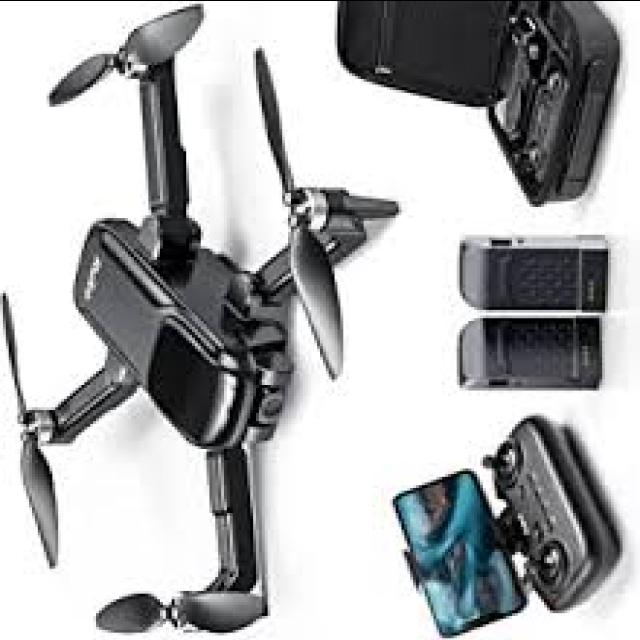drone: (1, 0, 420, 633)
